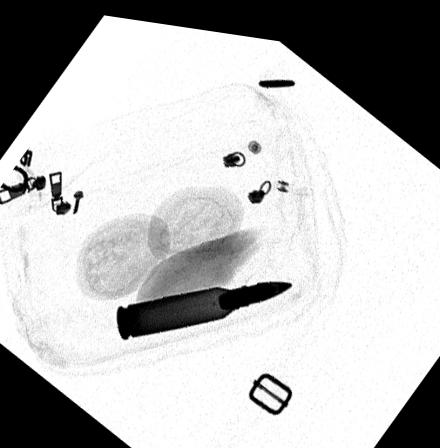Bullet: (113, 270, 294, 337)
